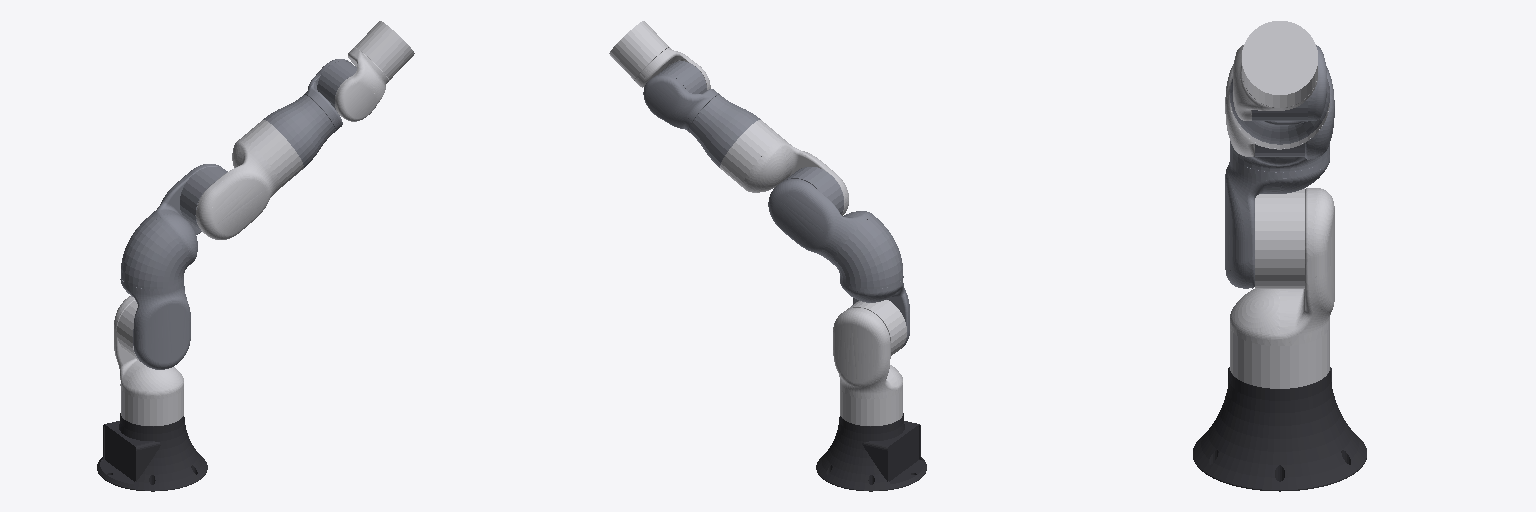
The robot description file, URDF, robot "igus_rebel_6dof":
<?xml version="1.0" ?>
<!-- =================================================================================== -->
<!-- |    This document was autogenerated by xacro from /tmp/claude-0/-home-claude/4a9662df-a36d-562d-97ea-2ac660e7ab89/scratchpad/desc/urdf/igus_rebel_6dof.urdf.xacro | -->
<!-- |    EDITING THIS FILE BY HAND IS NOT RECOMMENDED                                 | -->
<!-- =================================================================================== -->
<!-- igus ReBeL 6-DoF (rebel_version 01), generated with xacro from CommonplaceRobotics/iRC_ROS
     irc_ros_description (Apache-2.0). @MESH_DIR@ is replaced by view.launch.py. -->
<robot name="igus_rebel_6dof">
  <link name="base_link">
    <visual>
      <geometry>
        <mesh filename="package://rebel_demo/meshes/igus_rebel_6dof_00/Joint0.stl"/>
      </geometry>
      <material name="base_dark"><color rgba="0.25 0.25 0.27 1"/></material>
    </visual>
    <collision>
      <geometry>
        <mesh filename="package://rebel_demo/meshes/igus_rebel_6dof_00/Joint0Coll.stl"/>
      </geometry>
    </collision>
    <inertial>
      <mass value="1.0"/>
      <inertia ixx="1.0" ixy="0.0" ixz="0.0" iyy="1.0" iyz="0.0" izz="1.0"/>
    </inertial>
  </link>
  <joint name="joint1" type="revolute">
    <parent link="base_link"/>
    <child link="link_1"/>
    <origin rpy="0.0 0.0 0.0" xyz="0.0 0 0.100"/>
    <axis xyz="0 0 -1"/>
    <limit effort="330.0" lower="-3.12413936106985" upper="3.12413936106985" velocity="0.7853981633974483"/>
  </joint>
  <link name="link_1">
    <visual>
      <geometry>
        <mesh filename="package://rebel_demo/meshes/igus_rebel_6dof_00/Joint1.stl"/>
      </geometry>
      <origin rpy="0 0 0" xyz="0 0 0"/>
      <material name="light"><color rgba="0.80 0.80 0.82 1"/></material>
    </visual>
    <collision>
      <geometry>
        <mesh filename="package://rebel_demo/meshes/igus_rebel_6dof_00/Joint1Coll.stl"/>
      </geometry>
      <origin rpy="0 0 0" xyz="0 0 0"/>
    </collision>
    <inertial>
      <mass value="0.1"/>
      <inertia ixx="0.03" ixy="0.0" ixz="0.0" iyy="0.03" iyz="0.0" izz="0.03"/>
    </inertial>
  </link>
  <joint name="joint2" type="revolute">
    <parent link="link_1"/>
    <child link="link_2"/>
    <origin rpy="0.0 0.5235987755982988 0.0" xyz="0.0 0 0.149"/>
    <axis xyz="0 1 0"/>
    <!-- pi*2/3 are the physical limits, but to avoid any collisions we set the actual limits lower -->
    <limit effort="330.0" lower="-1.9198621771937623" upper="1.9198621771937623" velocity="0.7853981633974483"/>
  </joint>
  <link name="link_2">
    <visual>
      <geometry>
        <mesh filename="package://rebel_demo/meshes/igus_rebel_6dof_00/Joint2.stl"/>
      </geometry>
      <origin rpy="0 0 0" xyz="0 0 0"/>
      <material name="mid"><color rgba="0.55 0.56 0.60 1"/></material>
    </visual>
    <collision>
      <geometry>
        <mesh filename="package://rebel_demo/meshes/igus_rebel_6dof_00/Joint2Coll.stl"/>
      </geometry>
      <origin rpy="0 0 0" xyz="0 0 0"/>
    </collision>
    <inertial>
      <mass value="0.1"/>
      <inertia ixx="0.03" ixy="0.0" ixz="0.0" iyy="0.03" iyz="0.0" izz="0.03"/>
    </inertial>
  </link>
  <joint name="joint3" type="revolute">
    <parent link="link_2"/>
    <child link="link_5"/>
    <origin rpy="0.0 0.5235987755982988 0.0" xyz="0.0 0.0 0.2384"/>
    <axis xyz="0 1 0"/>
    <!-- pi*2/3 are the physical limits, but to avoid any collisions we set the actual limits lower -->
    <limit effort="330.0" lower="-1.9198621771937623" upper="1.9198621771937623" velocity="0.7853981633974483"/>
  </joint>
  <link name="link_5">
    <visual>
      <geometry>
        <mesh filename="package://rebel_demo/meshes/igus_rebel_6dof_00/Joint3.stl"/>
      </geometry>
      <origin rpy="0 0 0" xyz="0 0 0"/>
      <material name="light"><color rgba="0.80 0.80 0.82 1"/></material>
    </visual>
    <collision>
      <geometry>
        <mesh filename="package://rebel_demo/meshes/igus_rebel_6dof_00/Joint3Coll.stl"/>
      </geometry>
      <origin rpy="0 0 0" xyz="0 0 0"/>
    </collision>
    <inertial>
      <mass value="0.1"/>
      <inertia ixx="0.03" ixy="0.0" ixz="0.0" iyy="0.03" iyz="0.0" izz="0.03"/>
    </inertial>
  </link>
  <joint name="joint4" type="revolute">
    <parent link="link_5"/>
    <child link="link_6"/>
    <!-- TODO The 0.03m offset are most likely caused by the mesh file (Issue 15)-->
    <origin rpy="0.0 0.0 0.0" xyz="0.0 0 0.119"/>
    <axis xyz="0 0 1"/>
    <limit effort="330.0" lower="-3.12413936106985" upper="3.12413936106985" velocity="0.7853981633974483"/>
  </joint>
  <link name="link_6">
    <visual>
      <geometry>
        <mesh filename="package://rebel_demo/meshes/igus_rebel_6dof_00/Joint4.stl"/>
      </geometry>
      <origin rpy="0 0 0" xyz="0 0 0"/>
      <material name="mid"><color rgba="0.55 0.56 0.60 1"/></material>
    </visual>
    <collision>
      <geometry>
        <mesh filename="package://rebel_demo/meshes/igus_rebel_6dof_00/Joint4Coll.stl"/>
      </geometry>
      <origin rpy="0 0 0" xyz="0 0 0"/>
    </collision>
    <inertial>
      <mass value="0.1"/>
      <inertia ixx="0.03" ixy="0.0" ixz="0.0" iyy="0.03" iyz="0.0" izz="0.03"/>
    </inertial>
  </link>
  <joint name="joint5" type="revolute">
    <parent link="link_6"/>
    <child link="link_7"/>
    <!-- TODO The 0.03m offset are most likely caused by the mesh file (Issue 15) -->
    <origin rpy="0.0 -0.1308996938995747 0.0" xyz="0.0 0 0.17"/>
    <axis xyz="0 1 0"/>
    <limit effort="330.0" lower="-1.5271630954950381" upper="1.7889624832941877" velocity="0.7853981633974483"/>
  </joint>
  <link name="link_7">
    <visual>
      <geometry>
        <mesh filename="package://rebel_demo/meshes/igus_rebel_6dof_00/Joint5.stl"/>
      </geometry>
      <origin rpy="0 0 0" xyz="0 0 0"/>
      <material name="light"><color rgba="0.80 0.80 0.82 1"/></material>
    </visual>
    <collision>
      <geometry>
        <mesh filename="package://rebel_demo/meshes/igus_rebel_6dof_00/Joint5Coll.stl"/>
      </geometry>
      <origin rpy="0 0 0" xyz="0 0 0"/>
    </collision>
    <inertial>
      <mass value="0.1"/>
      <inertia ixx="0.03" ixy="0.0" ixz="0.0" iyy="0.03" iyz="0.0" izz="0.03"/>
    </inertial>
  </link>
  <joint name="joint6" type="revolute">
    <parent link="link_7"/>
    <child link="link_8"/>
    <origin rpy="0.0 0.0 0.0" xyz="0.0 0 0.1208"/>
    <axis xyz="0 0 1"/>
    <limit effort="330.0" lower="-3.12413936106985" upper="3.12413936106985" velocity="0.7853981633974483"/>
  </joint>
  <link name="link_8">
    <visual>
      <geometry>
        <mesh filename="package://rebel_demo/meshes/igus_rebel_6dof_00/Joint6.stl"/>
      </geometry>
      <origin rpy="0 0 0" xyz="0.0 0 0"/>
      <material name="flange"><color rgba="0.15 0.15 0.15 1"/></material>
    </visual>
    <collision>
      <geometry>
        <mesh filename="package://rebel_demo/meshes/igus_rebel_6dof_00/Joint6Coll.stl"/>
      </geometry>
      <origin rpy="0 0 0" xyz="0.0 0 0"/>
    </collision>
    <inertial>
      <mass value="0.1"/>
      <inertia ixx="0.03" ixy="0.0" ixz="0.0" iyy="0.03" iyz="0.0" izz="0.03"/>
    </inertial>
  </link>
  <joint name="joint7" type="fixed">
    <parent link="link_8"/>
    <child link="flange"/>
    <origin rpy="0.0 -1.5707963267948966 0.0" xyz="0.0 0 0.0012"/>
    <axis xyz="0 0 0"/>
  </joint>
  <link name="flange">
    </link>
  <joint name="flange_to_tool0" type="fixed">
    <parent link="flange"/>
    <child link="tool0"/>
    <origin rpy="0.0 0.0 0.0" xyz="0.0 0.0 0.0"/>
    <axis xyz="0 0 0"/>
  </joint>
  <link name="tool0">
    </link>
  <!-- Add world link -->
  <link name="world"/>
  <joint name="world_to_base" type="fixed">
    <parent link="world"/>
    <child link="base_link"/>
    <origin rpy="0.0 0.0 0.0" xyz="0.0 0.0 0.0"/>
  </joint>
  <!-- Make sure tcp exists even if no tool is attached -->
  <joint name="flange_to_tcp" type="fixed">
    <parent link="flange"/>
    <child link="tcp"/>
    <origin rpy="0.0 0.0 0.0" xyz="0.0 0.0 0.0"/>
    <axis xyz="0 0 0"/>
  </joint>
  <link name="tcp">
    <inertial>
      <mass value="0.1"/>
      <inertia ixx="0.03" ixy="0.0" ixz="0.0" iyy="0.03" iyz="0.0" izz="0.03"/>
    </inertial>
  </link>
</robot>

--- Facts derived from the render (not from the file) ---
3 views of the same robot in one strip: view 1: azimuth 30°, elevation 25°; view 2: azimuth 150°, elevation 25°; view 3: azimuth 270°, elevation 25° (orthographic).
Robot: igus_rebel_6dof — 11 links, 10 joints (6 revolute, 4 fixed); root link world; default pose: all joints at 0.
Links seen in each view (by area): view 1: link_2, link_5, base_link, link_1, link_6, link_7; view 2: link_2, link_1, base_link, link_6, link_5, link_7; view 3: link_1, base_link, link_2, link_7, link_6, link_5.
Link boxes in pixels (x1,y1,x2,y2): link_2: (120,164,227,369); link_5: (196,120,303,239); base_link: (97,413,207,491); link_1: (114,296,183,425); link_6: (263,59,356,167); link_7: (335,21,414,121); link_2: (768,167,909,348); link_1: (833,300,906,425); base_link: (816,413,926,491); link_6: (643,61,760,167); link_5: (720,120,848,215); link_7: (609,21,710,89); link_1: (1230,188,1334,388); base_link: (1193,367,1366,491); link_2: (1225,66,1334,288); link_7: (1233,21,1317,120); link_6: (1230,45,1329,144); link_5: (1225,64,1329,156).
Bounding box of the posed robot: 0.5809 × 0.1824 × 0.7052 m (x, y, z).
Meshes: 7 distinct files referenced, 6 mesh visuals loaded (6 binary STL); not drawn: 1 (reference not matched to a file when rendering).
